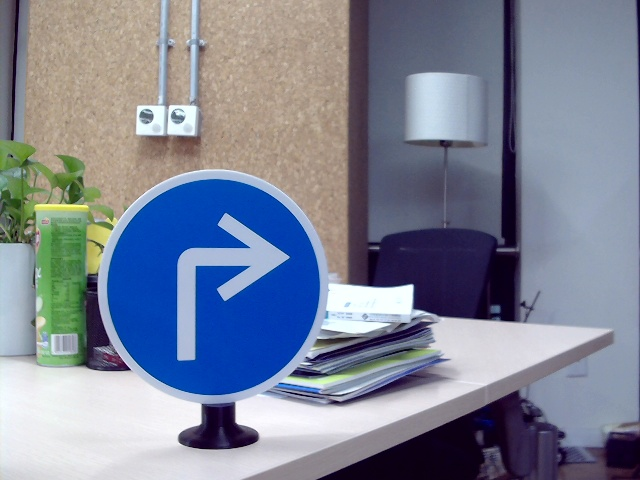turn_right: (162, 207, 289, 364)
